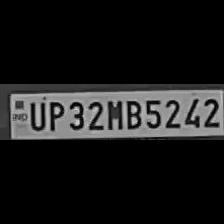2: (162, 96, 180, 130), (200, 94, 218, 128), (86, 97, 104, 130)
3: (64, 98, 84, 130)
4: (181, 96, 201, 128)
5: (143, 96, 161, 130)
B: (122, 97, 140, 129)
M: (104, 97, 122, 130)
P: (46, 98, 64, 132)
U: (26, 99, 44, 130)
